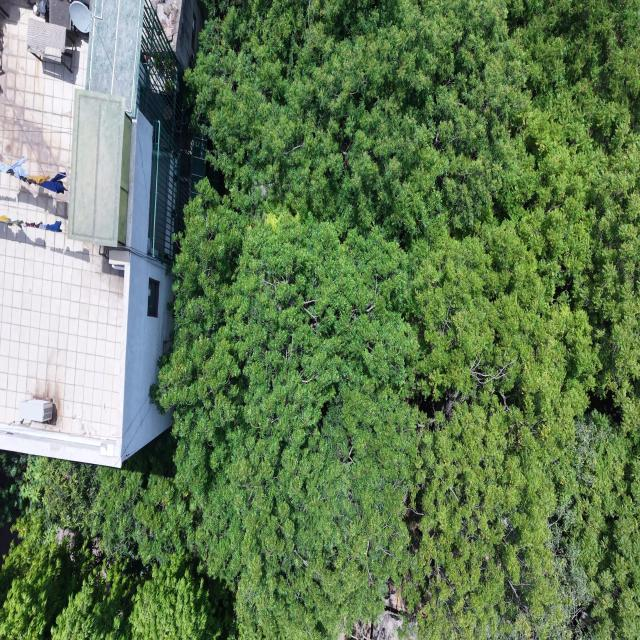ROOFTOP_BUILDING: (0, 0, 190, 466)
VEGETATION_TREE: (0, 0, 639, 639), (0, 435, 235, 639), (0, 451, 26, 527)
